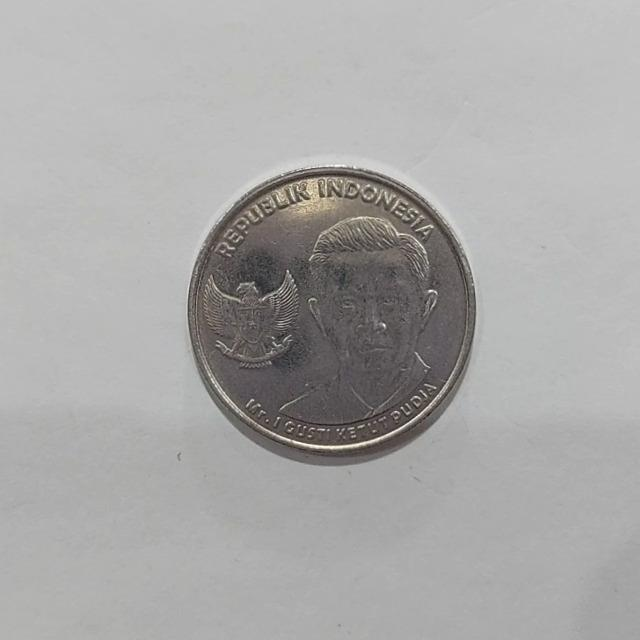Rp100: (186, 161, 477, 463), (273, 212, 441, 428), (199, 265, 301, 370)
